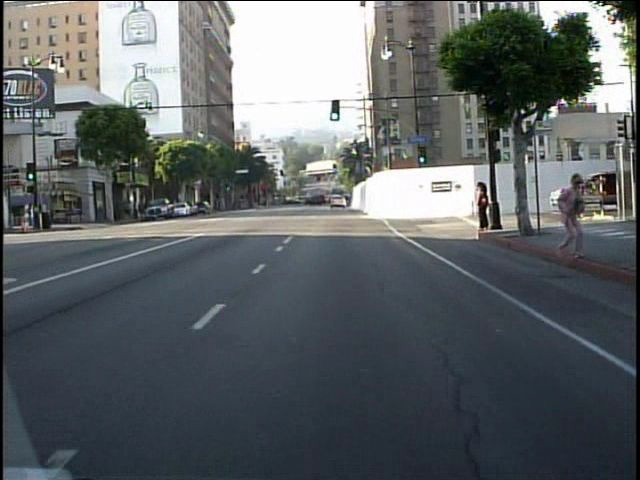person: (549, 170, 586, 264), (474, 180, 492, 234)
